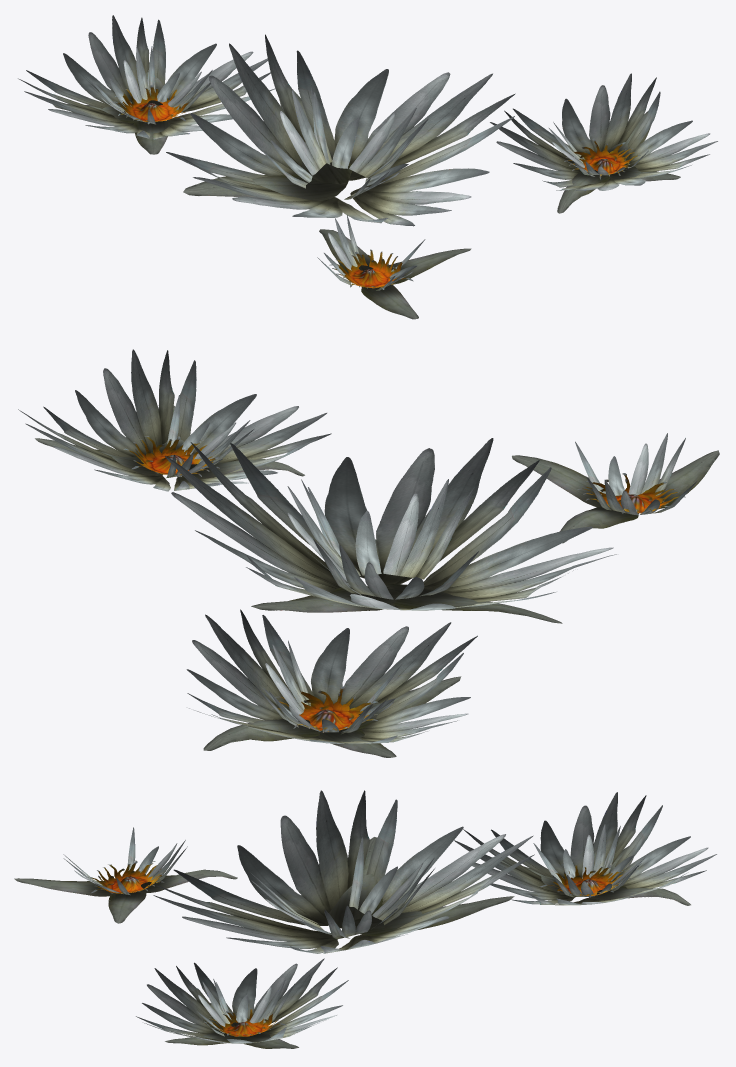
File: lilyflower.glb
The picture shows the model from 3 angles, top to bottom: view 1: azimuth 30°, elevation 25°; view 2: azimuth 150°, elevation 25°; view 3: azimuth 270°, elevation 25°; orthographic projection. The views are drawn at different scales.
Visible parts, largest first — view 1: LOD0_WaterLilyFlower_Mat_0; view 2: LOD0_WaterLilyFlower_Mat_0; view 3: LOD0_WaterLilyFlower_Mat_0.
Boxes of the visible parts, x1=… form: LOD0_WaterLilyFlower_Mat_0: x1=18, y1=15, x2=717, y2=319; LOD0_WaterLilyFlower_Mat_0: x1=18, y1=349, x2=719, y2=757; LOD0_WaterLilyFlower_Mat_0: x1=14, y1=790, x2=716, y2=1048.
Bounding box in the file's own units: 0.0189 × 0.0032 × 0.023.
Materials: 1 (1 with a texture image).
